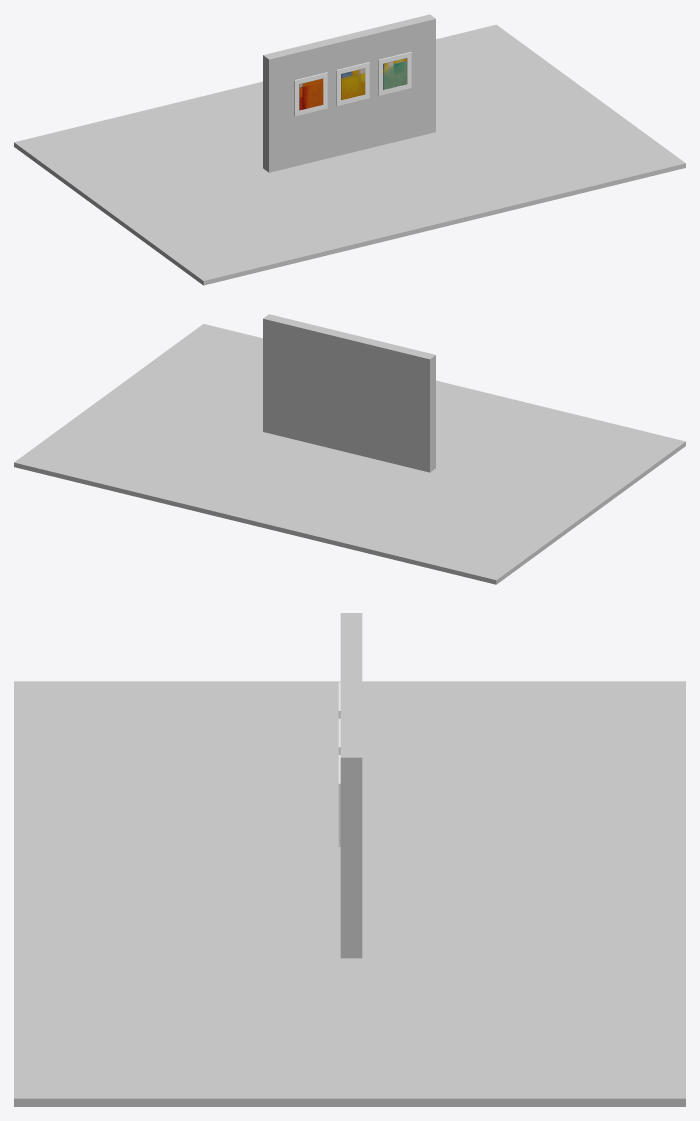
The model's file is paintings.glb.
The picture shows the model from 3 angles, top to bottom: view 1: azimuth 30°, elevation 25°; view 2: azimuth 150°, elevation 25°; view 3: azimuth 270°, elevation 25°; orthographic projection. The views are drawn at different scales.
Visible parts, largest first — view 1: Object_5, Object_8, Object_4, Object_3, Object_2; view 2: Object_5; view 3: Object_5.
Part boxes in pixels (bbox=[...]): Object_5: bbox=[14, 14, 685, 285]; Object_8: bbox=[294, 52, 411, 116]; Object_4: bbox=[341, 68, 365, 100]; Object_3: bbox=[299, 78, 323, 110]; Object_2: bbox=[383, 58, 406, 89]; Object_5: bbox=[14, 314, 685, 584]; Object_5: bbox=[14, 613, 685, 1106].
Size of the model in its own units: 10.97 by 2.61 by 7.47.
7 materials, 3 textured.
